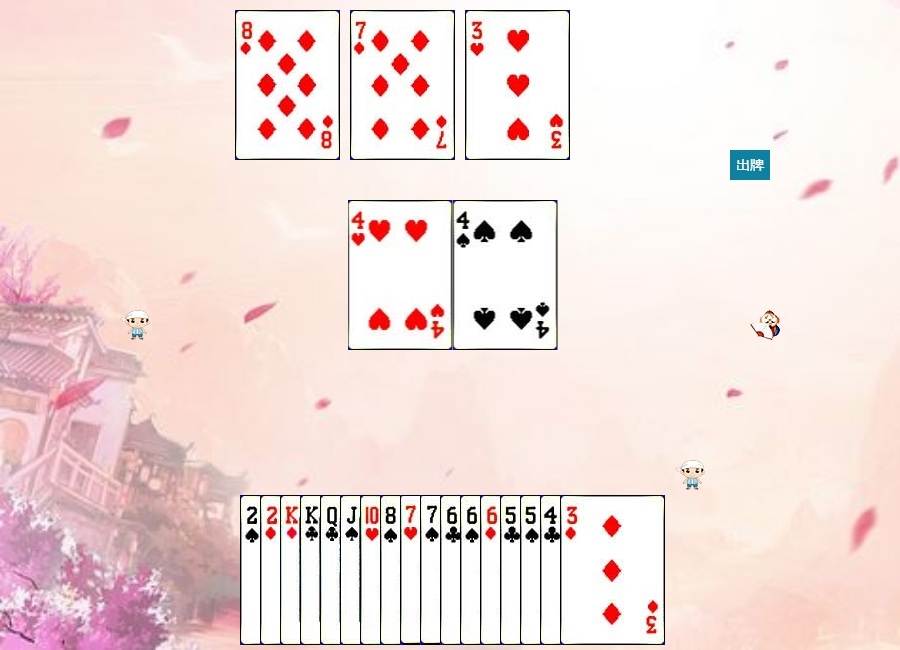10~3: (360, 495, 465, 645)
11~4: (340, 495, 445, 645)
12~2: (320, 495, 425, 645)
13~1: (280, 495, 385, 645)
13~2: (300, 495, 405, 645)
15~1: (260, 495, 365, 645)
15~4: (240, 495, 345, 645)
3~1: (560, 495, 665, 645)
3~3: (465, 10, 570, 160)
4~2: (540, 495, 645, 645)
4~3: (348, 200, 453, 350)
4~4: (453, 200, 558, 350)
5~2: (500, 495, 605, 645)
5~4: (520, 495, 625, 645)
6~1: (480, 495, 585, 645)
6~2: (440, 495, 545, 645)
6~4: (460, 495, 565, 645)
7~1: (350, 10, 455, 160)
7~3: (400, 495, 505, 645)
7~4: (420, 495, 525, 645)
8~1: (235, 10, 340, 160)
8~4: (380, 495, 485, 645)
